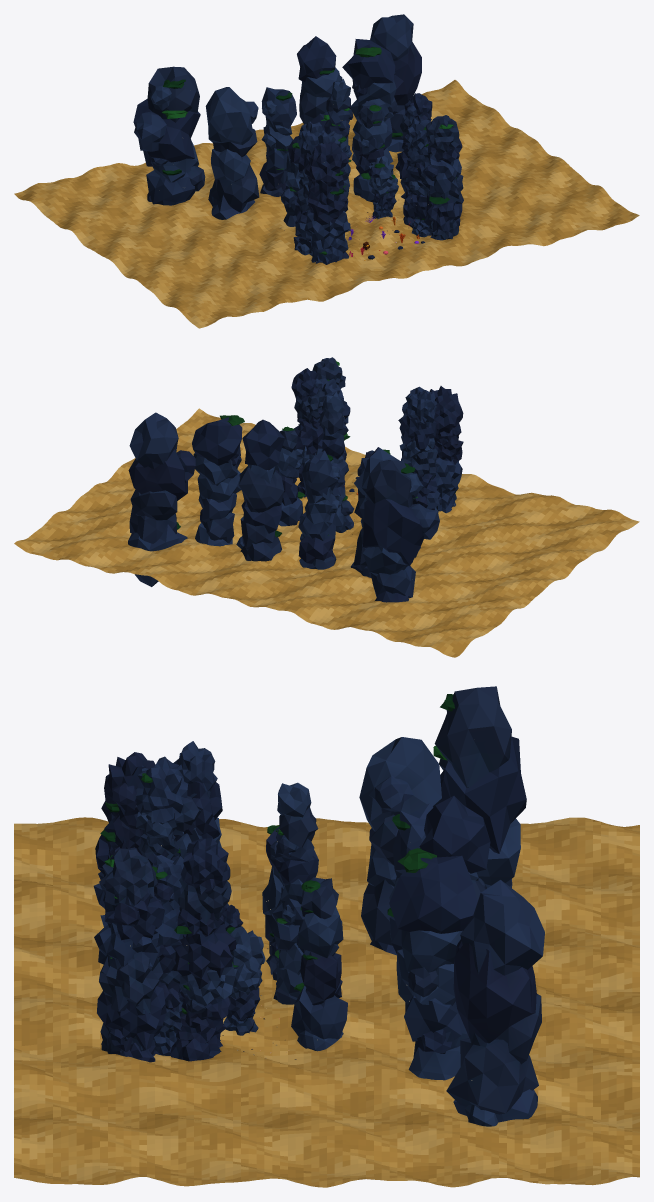
File: underwater.glb
3 views of the same model, one above another, from view 1: azimuth 30°, elevation 25°; view 2: azimuth 150°, elevation 25°; view 3: azimuth 270°, elevation 25° (orthographic). The views are drawn at different scales.
Parts seen in each view (by area): view 1: Floor, Rocks; view 2: Floor, Rocks; view 3: Floor, Rocks.
Boxes of the visible parts, box(x1,y1,x2,y2) form: Floor: box(14, 80, 639, 328); Rocks: box(133, 14, 463, 264); Floor: box(14, 408, 639, 657); Rocks: box(128, 357, 463, 602); Floor: box(14, 817, 639, 1187); Rocks: box(93, 686, 544, 1126).
Bounding box in the file's own units: 110 × 41.57 × 80.
